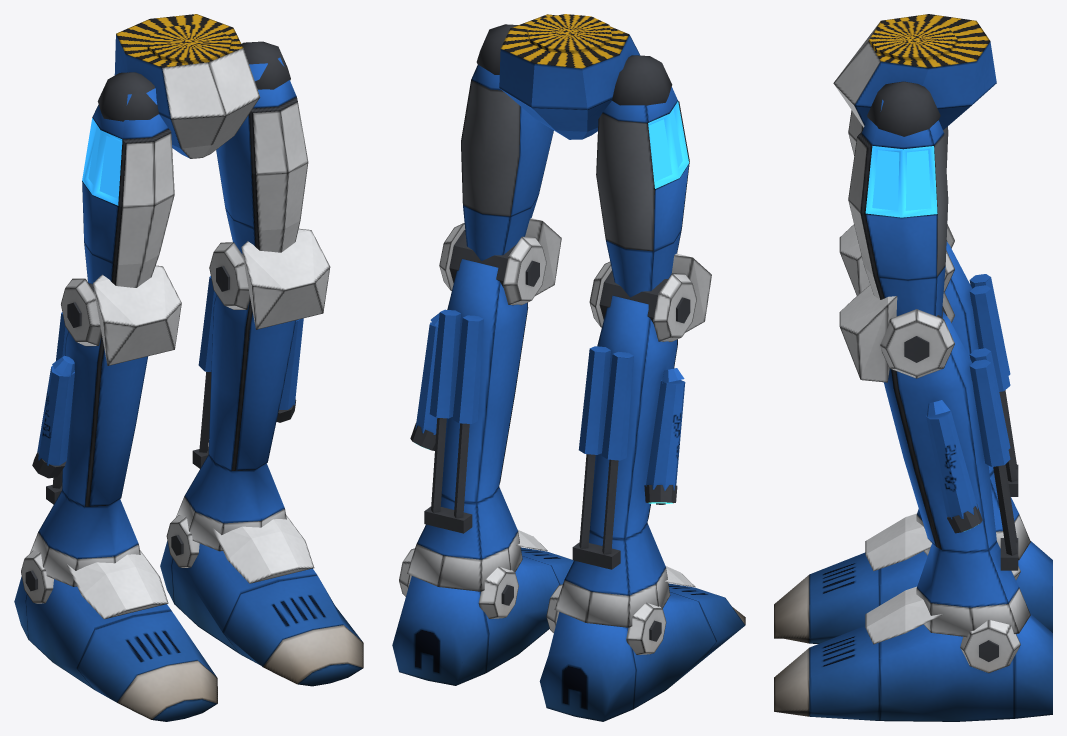
The model's file is SprintLegsX.glb.
3 renders of one model, left to right at view 1: azimuth 30°, elevation 25°; view 2: azimuth 150°, elevation 25°; view 3: azimuth 270°, elevation 25°, orthographic. The views are drawn at different scales.
Parts seen in each view (by area): view 1: SprintLegsX_ShinL, SprintLegsX_ShinR, SprintLegsX_FootL, SprintLegsX_FootR, SprintLegsX_Pelvis, SprintLegsX_ThighL, SprintLegsX_ThighR; view 2: SprintLegsX_ShinL, SprintLegsX_ShinR, SprintLegsX_FootL, SprintLegsX_Pelvis, SprintLegsX_FootR, SprintLegsX_ThighL, SprintLegsX_ThighR; view 3: SprintLegsX_ShinR, SprintLegsX_FootR, SprintLegsX_ThighR, SprintLegsX_Pelvis, SprintLegsX_FootL, SprintLegsX_ShinL, SprintLegsX_ThighL.
Part boxes in pixels (bbox=[...]): SprintLegsX_ShinL: bbox=[30, 265, 181, 586]; SprintLegsX_ShinR: bbox=[175, 228, 330, 551]; SprintLegsX_FootL: bbox=[14, 550, 217, 721]; SprintLegsX_FootR: bbox=[160, 515, 363, 686]; SprintLegsX_Pelvis: bbox=[97, 14, 290, 158]; SprintLegsX_ThighL: bbox=[82, 88, 174, 287]; SprintLegsX_ThighR: bbox=[216, 57, 308, 253]; SprintLegsX_ShinL: bbox=[554, 253, 711, 627]; SprintLegsX_ShinR: bbox=[407, 218, 561, 591]; SprintLegsX_FootL: bbox=[539, 566, 745, 721]; SprintLegsX_Pelvis: bbox=[476, 14, 672, 139]; SprintLegsX_FootR: bbox=[392, 530, 573, 685]; SprintLegsX_ThighL: bbox=[596, 87, 689, 297]; SprintLegsX_ThighR: bbox=[461, 64, 553, 260]; SprintLegsX_ShinR: bbox=[839, 285, 1030, 637]; SprintLegsX_FootR: bbox=[774, 586, 1052, 721]; SprintLegsX_ThighR: bbox=[848, 85, 948, 316]; SprintLegsX_Pelvis: bbox=[833, 14, 996, 136]; SprintLegsX_FootL: bbox=[774, 513, 1052, 643]; SprintLegsX_ShinL: bbox=[839, 224, 1030, 560]; SprintLegsX_ThighL: bbox=[848, 110, 948, 168].
Size of the model in its own units: 9.56 by 21.56 by 8.7.
7 materials, 5 textured.
